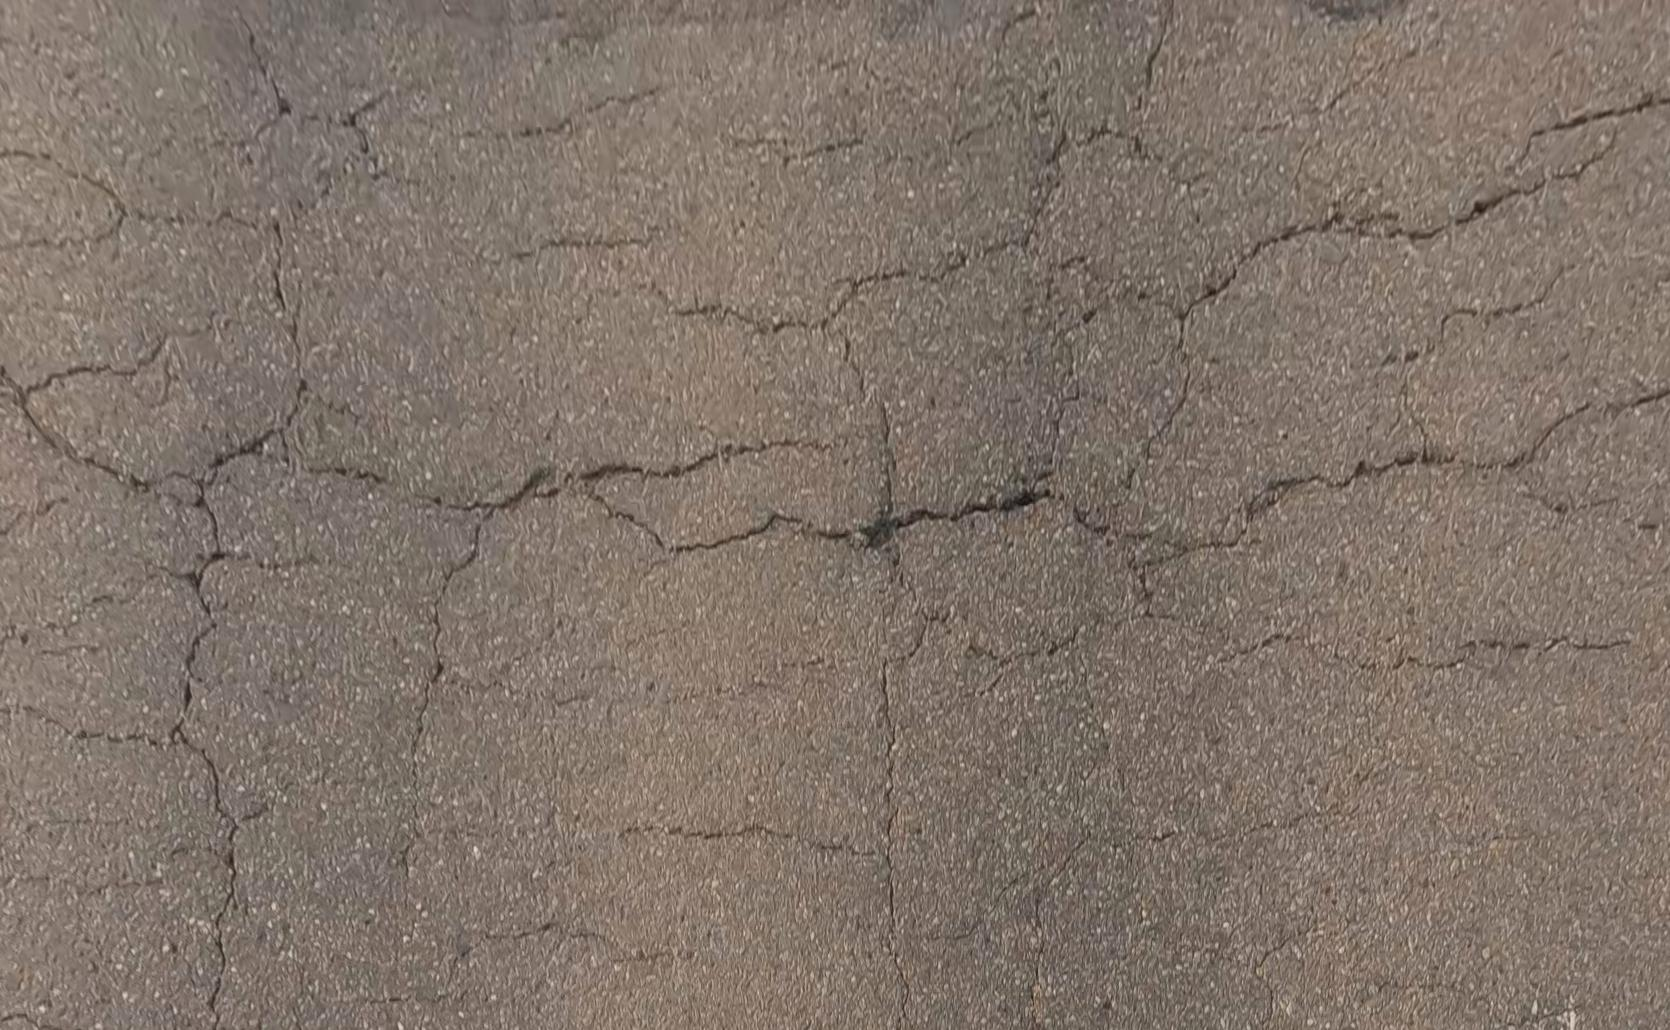pothole: (861, 508, 899, 548)
